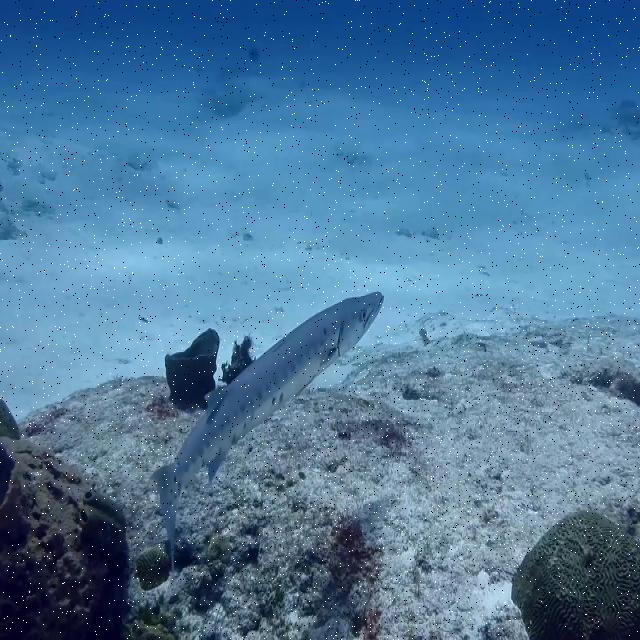fish: (140, 291, 385, 571)
reefs: (1, 397, 177, 639), (512, 510, 630, 639)
sea-floor: (1, 305, 639, 637)
